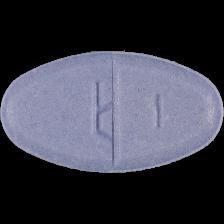0179-0123: (0, 0, 224, 224)
